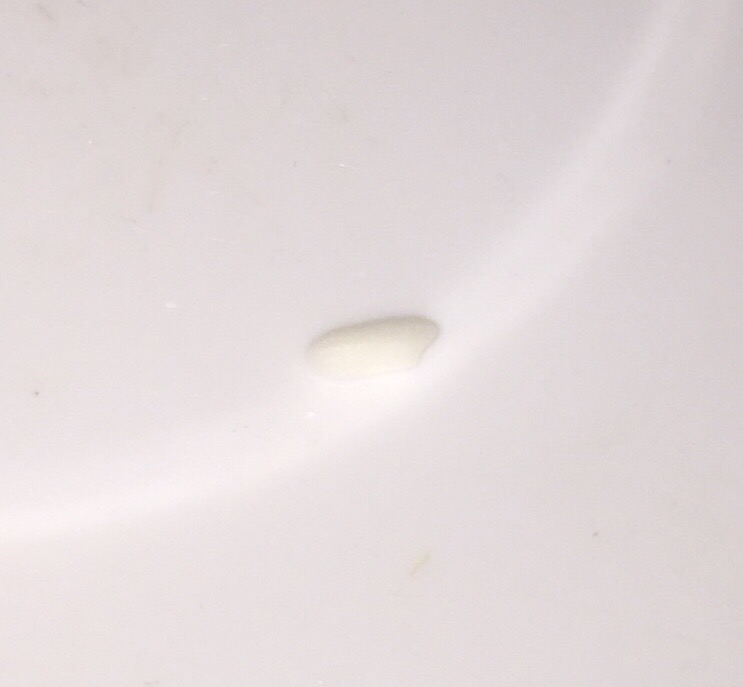Gao Nep Sap: (301, 304, 437, 383)
